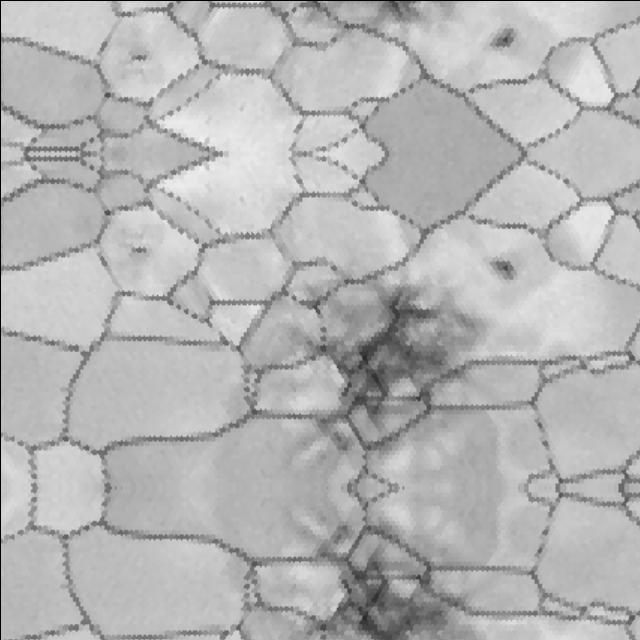good_void: (293, 276, 486, 463), (293, 513, 483, 640), (112, 235, 149, 266), (112, 42, 149, 73), (486, 258, 522, 284), (486, 23, 522, 49)
